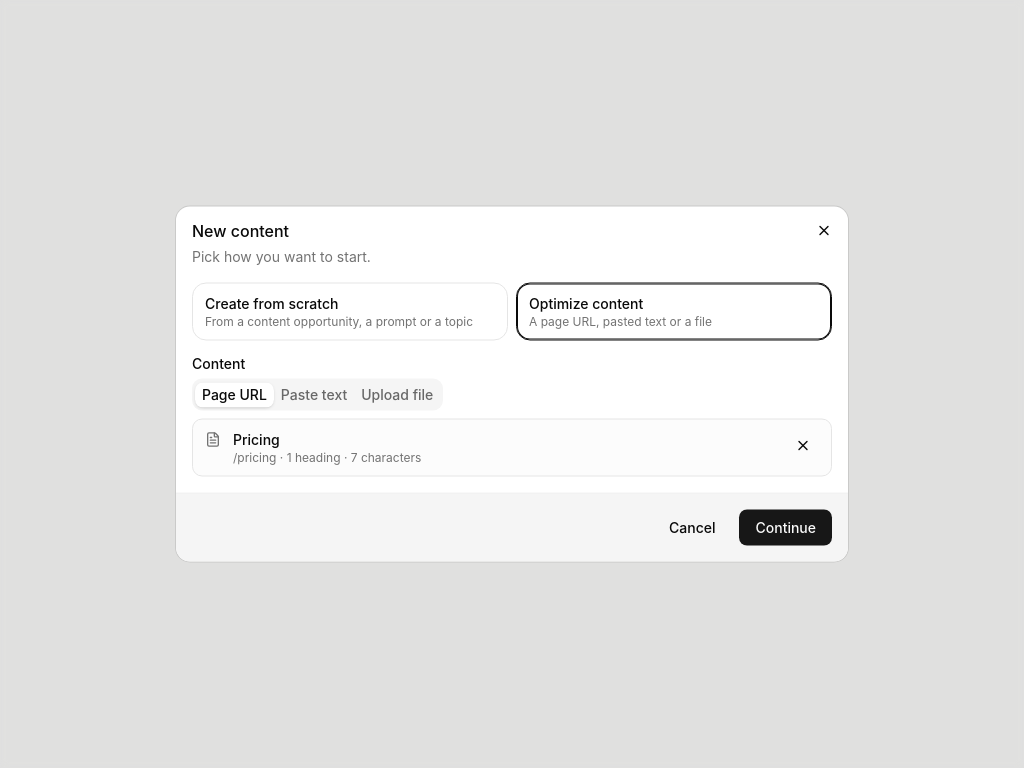
Test: New content › opened from the Content plan (CE-014) › reads the page to optimize
This screenshot has width=1024, height=768.
Click the button "Continue".
click(786, 528)  # box [740,510,832,546]
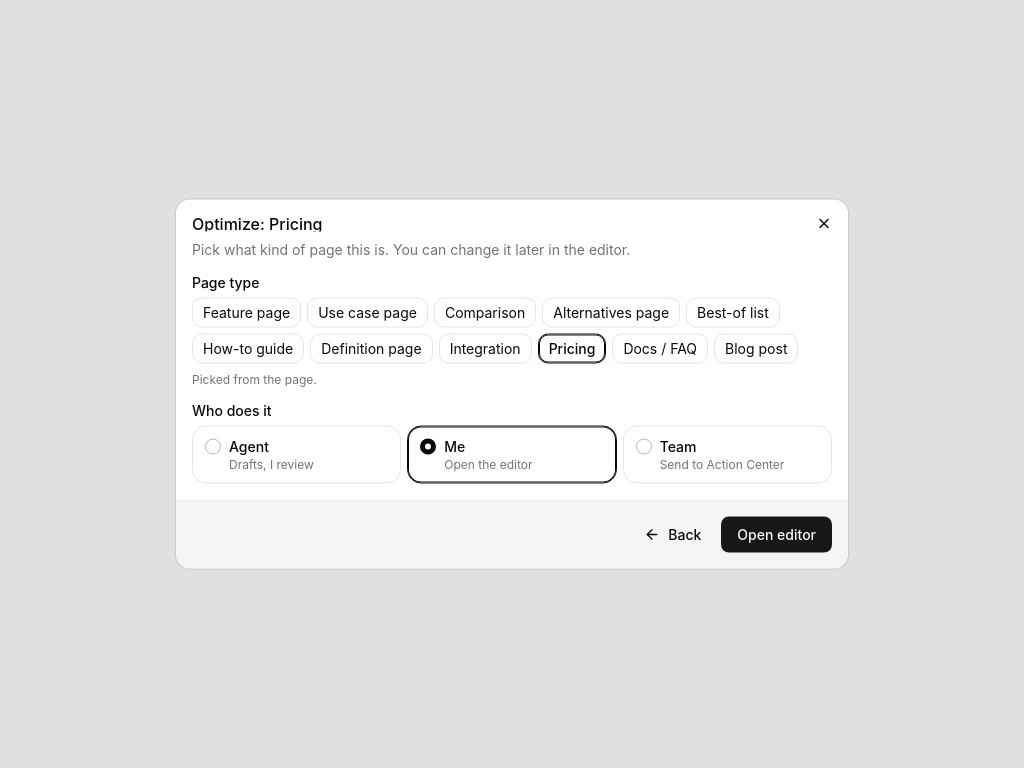
Check: the text "Optimize: Pricing" is shown, box [192,214,322,234]
